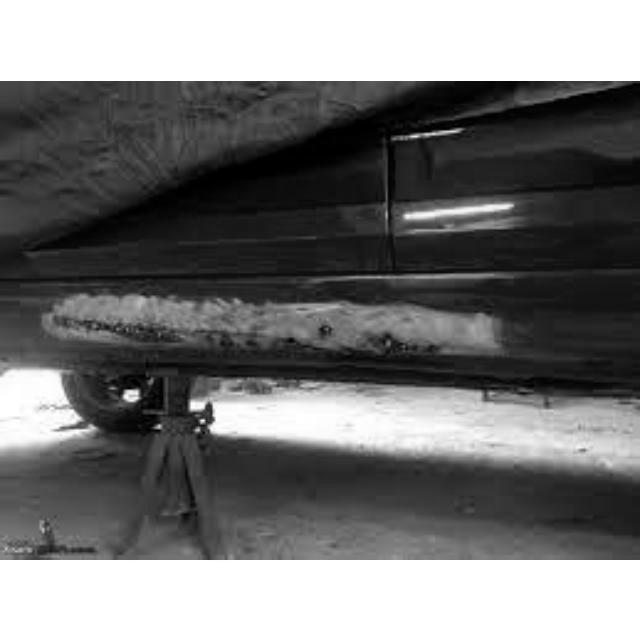Runningboard-Damage: (1, 260, 638, 386)
